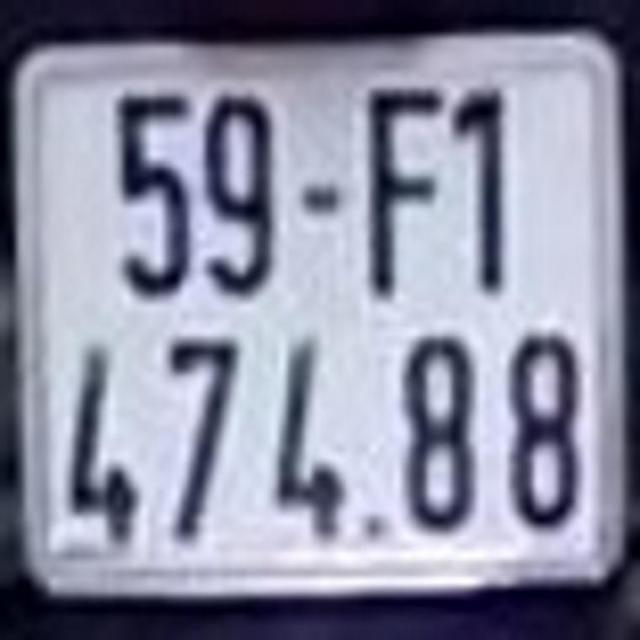1: (444, 65, 550, 298)
4: (56, 334, 155, 556), (264, 320, 350, 553)
5: (101, 56, 196, 304)
7: (158, 319, 247, 547)
8: (388, 315, 488, 544), (501, 305, 591, 538)
9: (192, 65, 283, 305)
F: (352, 72, 451, 298)
